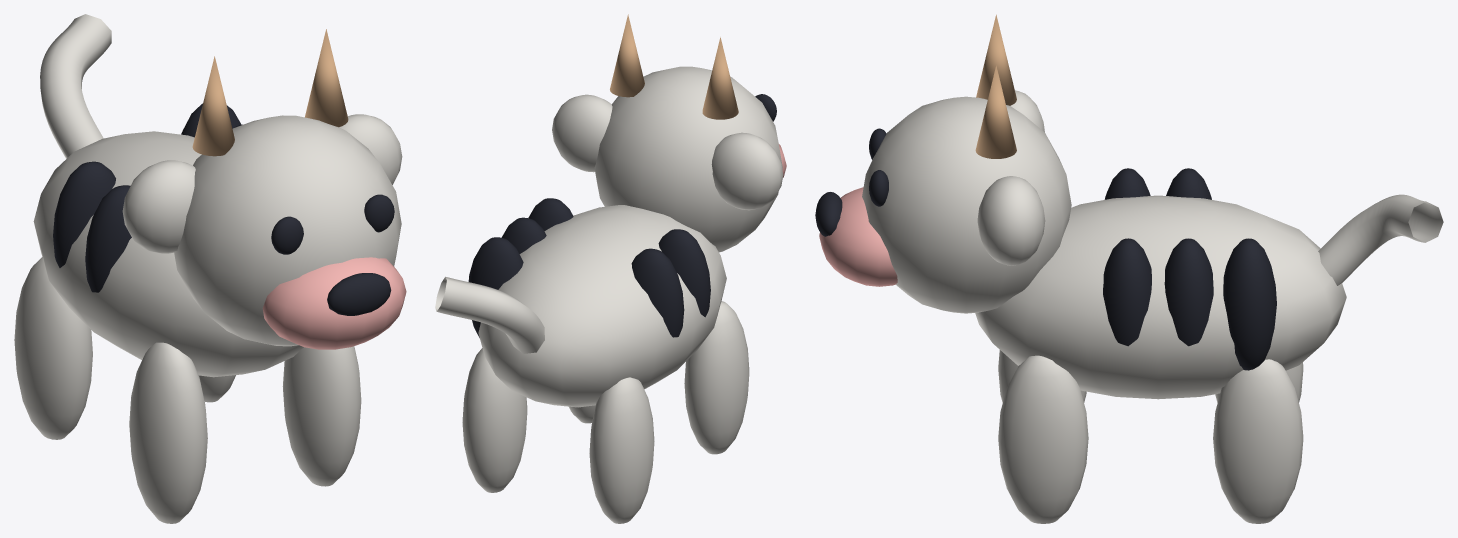
The model's file is word-cow.glb.
3 renders of one model, left to right at view 1: azimuth 30°, elevation 25°; view 2: azimuth 150°, elevation 25°; view 3: azimuth 270°, elevation 25°, orthographic. The views are drawn at different scales.
Visible parts, largest first — view 1: animal head, round animal body, little paw, little paw.001, little paw.002, muzzle, tail, animal ear, dark marking.003, dark marking.001, horn, horn.001 (+6 smaller); view 2: round animal body, animal head, little paw.001, little paw, little paw.003, animal ear, tail, animal ear.001, dark marking.003, dark marking.001, dark marking.004, horn (+3 smaller); view 3: round animal body, animal head, little paw.002, little paw.003, dark marking.004, tail, animal ear.001, muzzle, dark marking.002, dark marking, horn.001, horn (+3 smaller).
Boxes of the visible parts, <box> form: animal head: <box>174,115,401,346</box>; round animal body: <box>33,131,303,377</box>; little paw: <box>129,342,207,523</box>; little paw.001: <box>14,257,92,439</box>; little paw.002: <box>282,346,361,486</box>; muzzle: <box>262,257,406,349</box>; tail: <box>40,14,111,158</box>; animal ear: <box>122,160,195,253</box>; dark marking.003: <box>53,161,115,267</box>; dark marking.001: <box>85,185,131,292</box>; horn: <box>192,56,234,156</box>; horn.001: <box>305,29,348,127</box>; round animal body: <box>478,205,726,407</box>; animal head: <box>594,66,782,252</box>; little paw.001: <box>589,377,654,523</box>; little paw: <box>684,301,749,454</box>; little paw.003: <box>462,348,527,492</box>; animal ear: <box>711,132,783,210</box>; tail: <box>435,276,544,353</box>; animal ear.001: <box>552,94,612,172</box>; dark marking.003: <box>631,248,684,337</box>; dark marking.001: <box>658,229,710,317</box>; dark marking.004: <box>468,237,523,337</box>; horn: <box>702,37,738,119</box>; round animal body: <box>975,195,1346,399</box>; animal head: <box>862,96,1071,313</box>; little paw.002: <box>998,355,1088,523</box>; little paw.003: <box>1213,359,1303,523</box>; dark marking.004: <box>1223,238,1276,370</box>; tail: <box>1318,194,1443,285</box>; animal ear.001: <box>977,176,1045,265</box>; muzzle: <box>819,187,897,286</box>; dark marking.002: <box>1164,238,1213,346</box>; dark marking: <box>1103,238,1151,346</box>; horn.001: <box>975,65,1016,158</box>; horn: <box>976,14,1016,105</box>.
Bounding box in the file's own units: 0.78 × 1.31 × 1.67.
